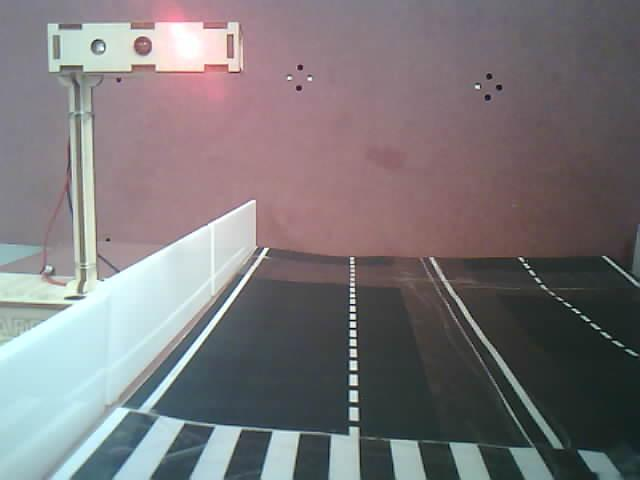crosswalk: (43, 413, 640, 477)
red: (42, 21, 248, 211)
